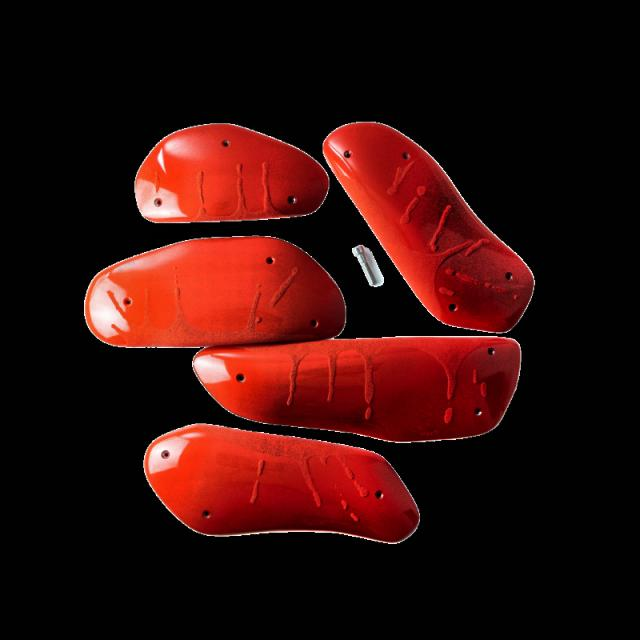Hold: (305, 107, 553, 338), (144, 426, 431, 552), (198, 332, 520, 442), (84, 237, 348, 347), (134, 120, 321, 228)
